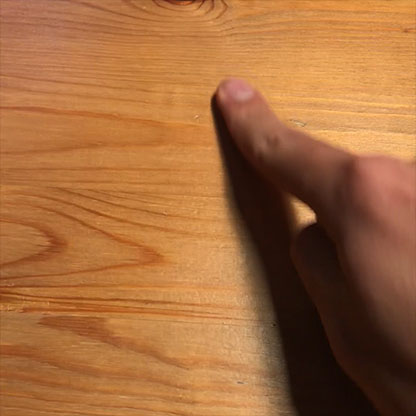fingertip: (216, 73, 262, 112)
